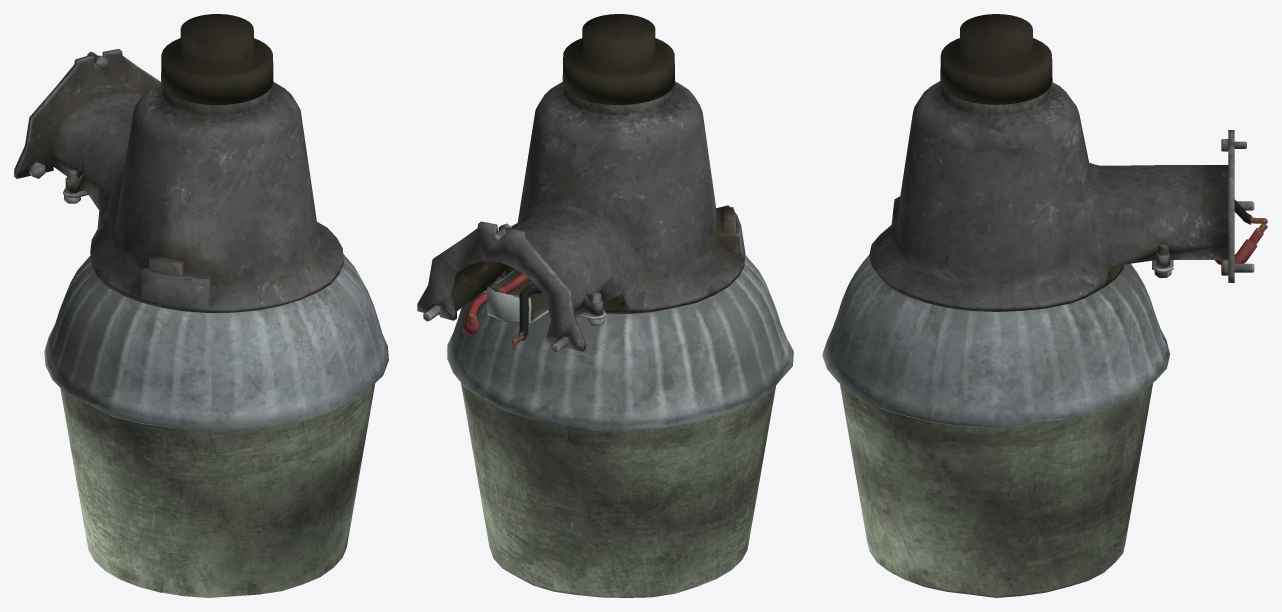
The model's file is security_light.glb.
3 renders of one model, left to right at view 1: azimuth 30°, elevation 25°; view 2: azimuth 150°, elevation 25°; view 3: azimuth 270°, elevation 25°, orthographic.
Visible parts, largest first — view 1: security_light, security_light_glass; view 2: security_light, security_light_glass; view 3: security_light, security_light_glass.
Part boxes in pixels (<box>): security_light: <box>14,14,388,429</box>; security_light_glass: <box>60,383,375,597</box>; security_light: <box>417,14,793,430</box>; security_light_glass: <box>461,383,775,597</box>; security_light: <box>822,14,1267,426</box>; security_light_glass: <box>840,383,1152,597</box>.
Size of the model in its own units: 0.3231 by 0.531 by 0.4172.
2 materials, 2 textured.
